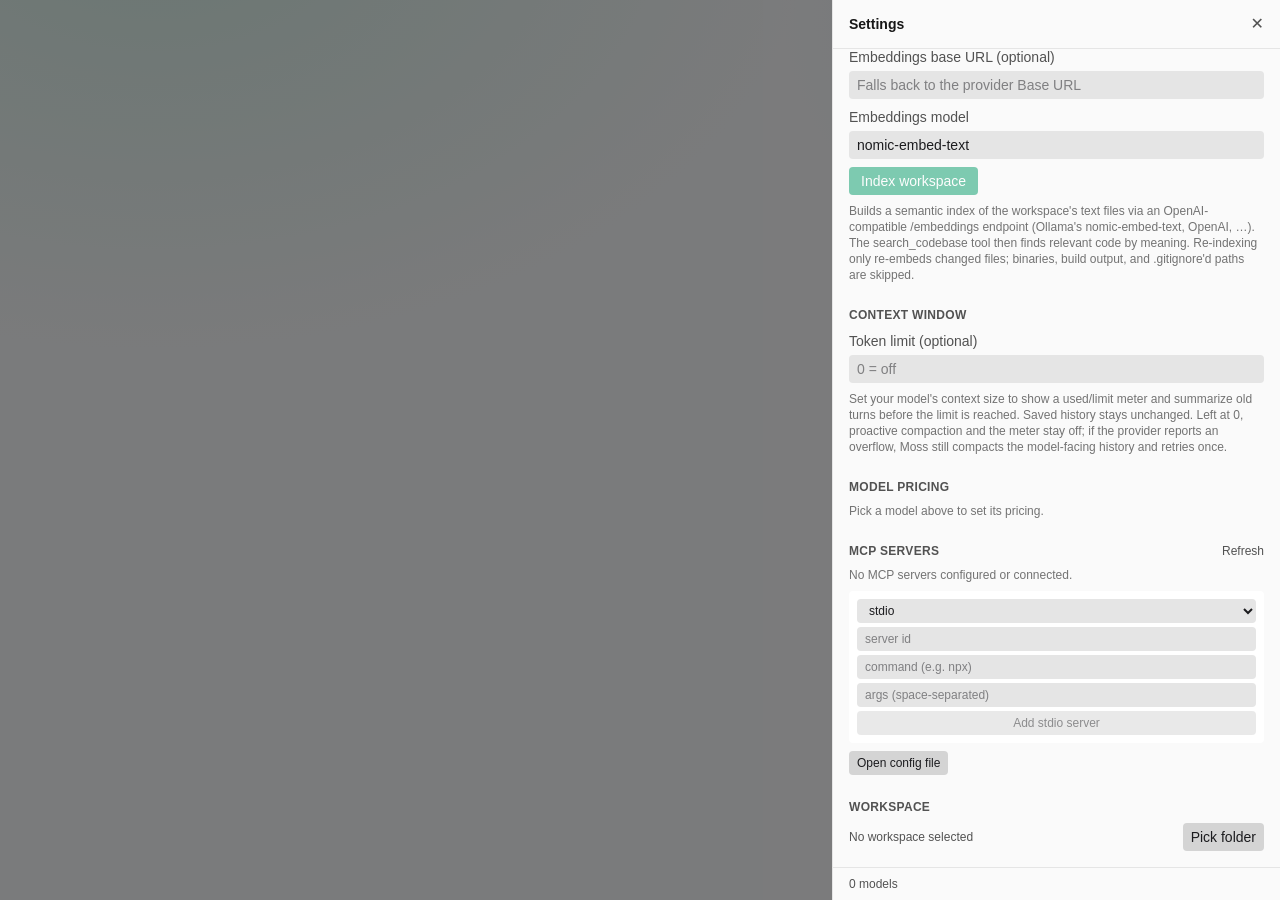
Scenario: SettingsPanel › adds a stdio server from the form
(page scrolled)
Check: the text "No MCP servers configured or connected." is shown, box 849,568 -> 1072,582
In the field named "New server id": [1056, 639] box 857,627 -> 1256,651, type "echo"
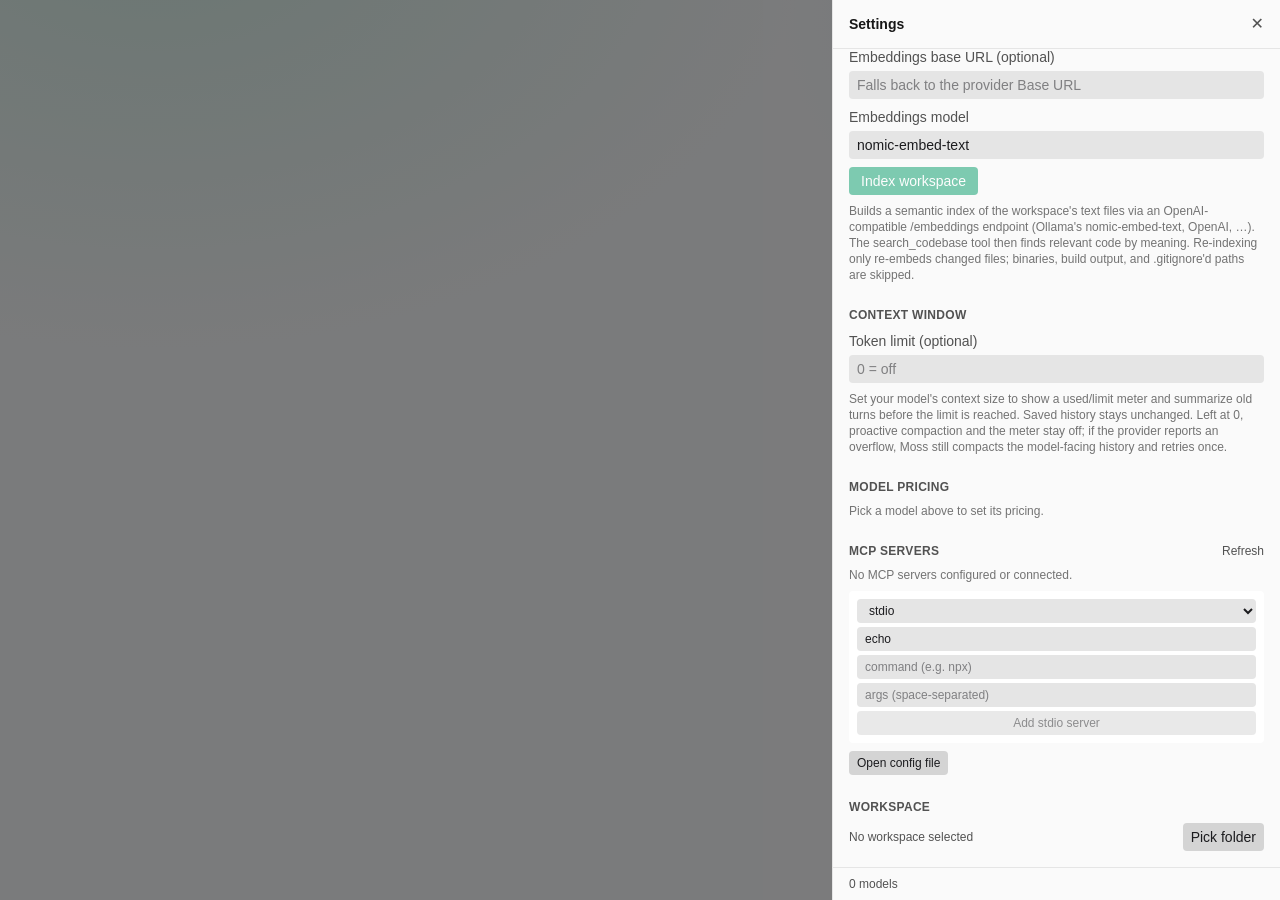
In the field named "New server command": [1056, 667] box 857,655 -> 1256,679, type "npx"
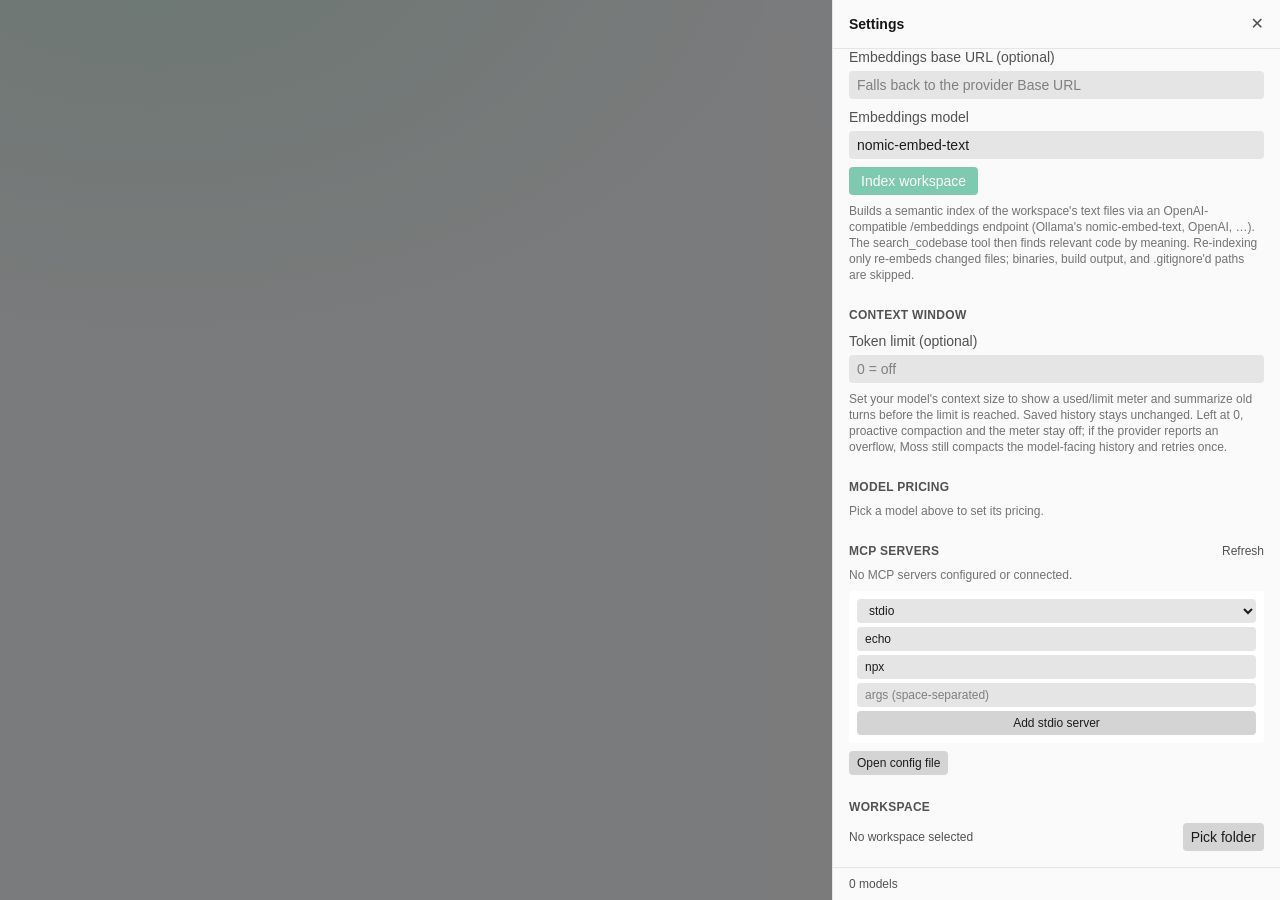
In the field named "New server args": [1056, 695] box 857,683 -> 1256,707, type "-y echo-mcp"
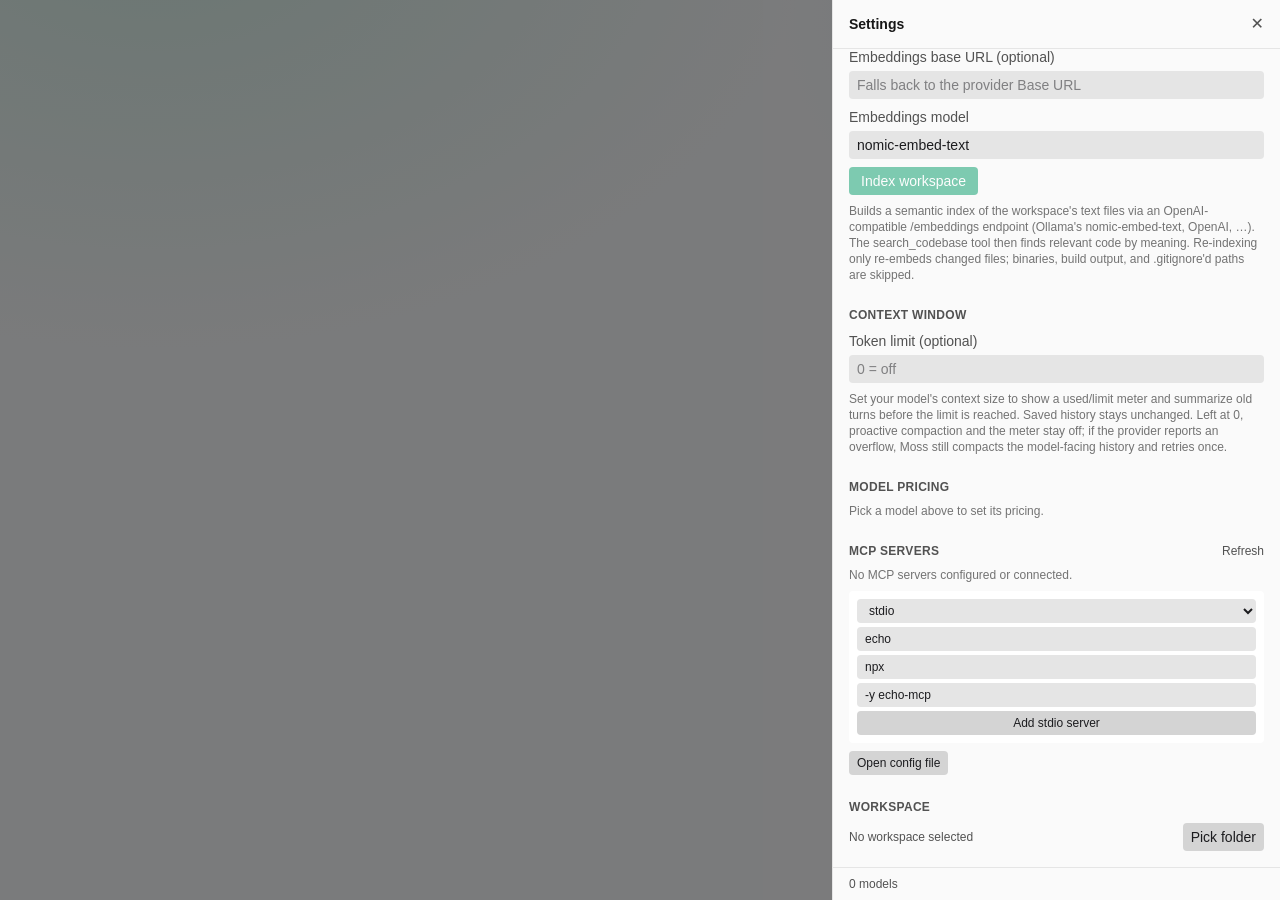
Click the button "Add stdio server": [1056, 723] box 857,711 -> 1256,735
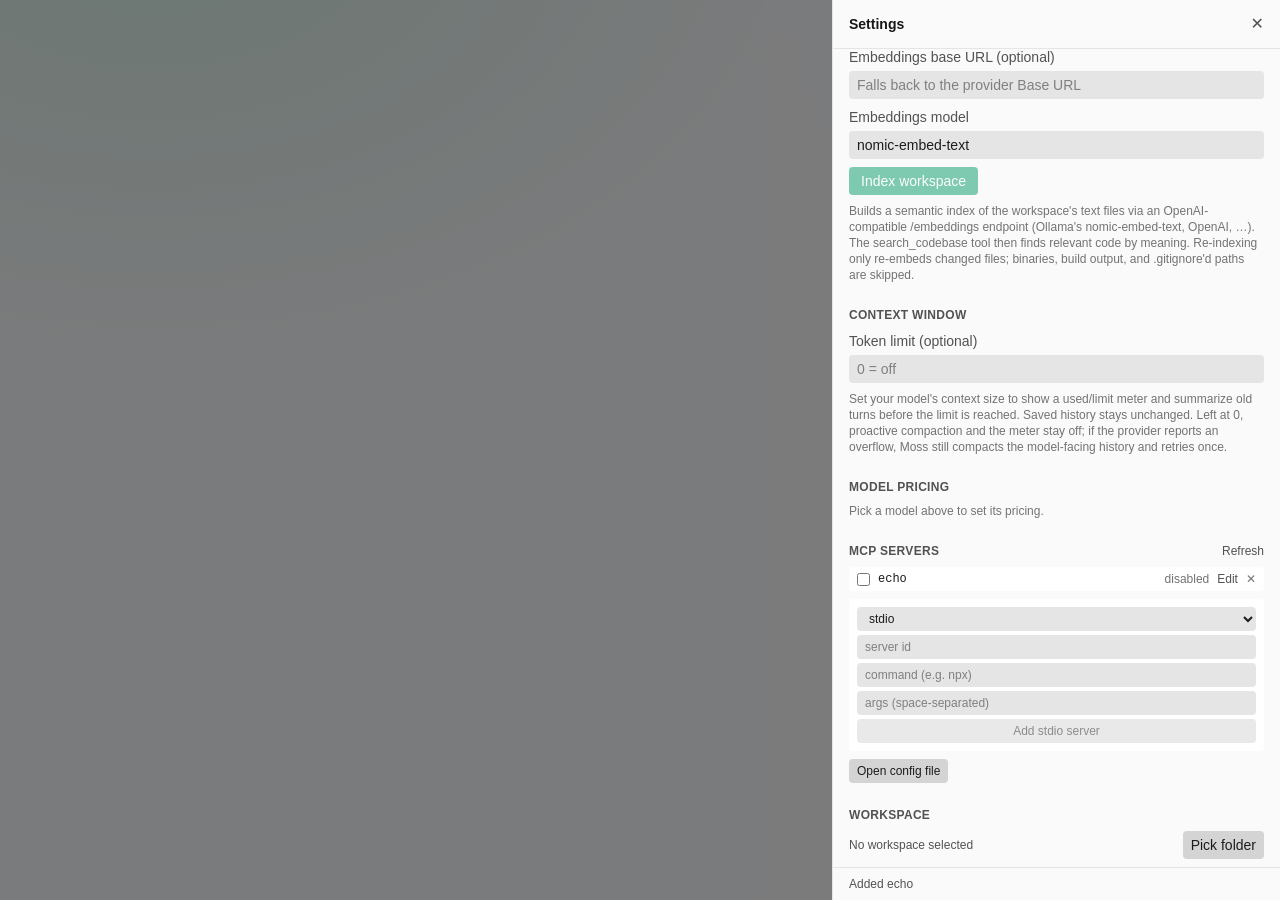
Check: the checkbox labelled "echo" is shown, box 857,572 -> 870,586
